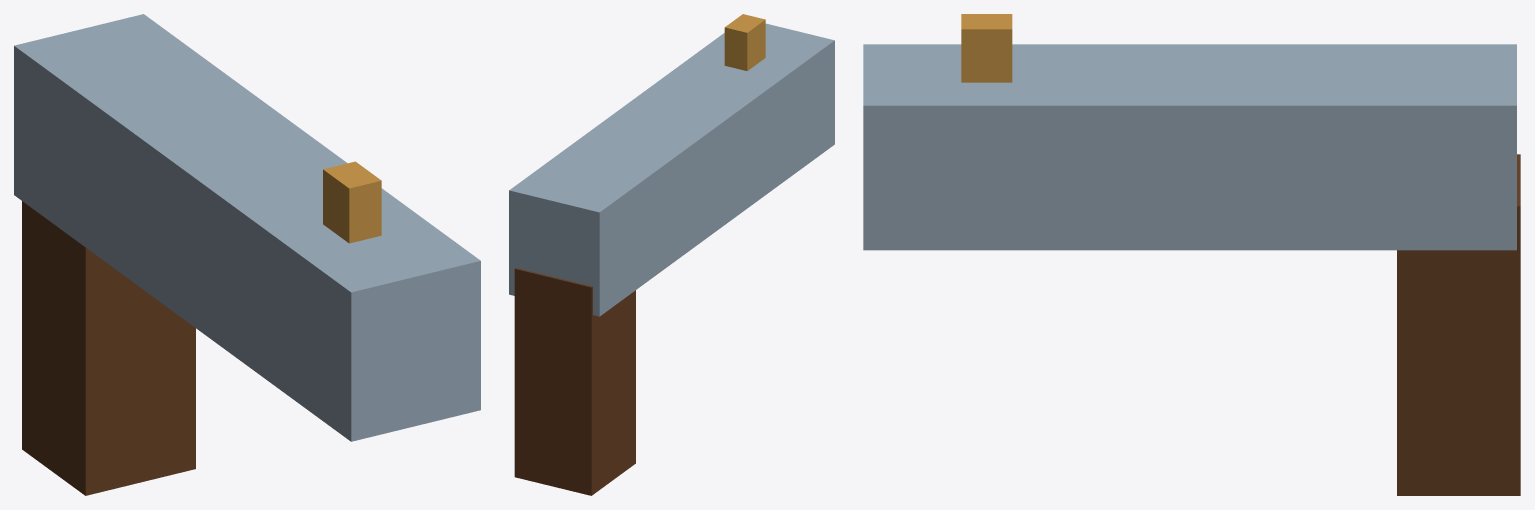
File: gun.glb
The picture shows the model from 3 angles, left to right: view 1: azimuth 30°, elevation 25°; view 2: azimuth 150°, elevation 25°; view 3: azimuth 270°, elevation 25°; orthographic projection. The views are drawn at different scales.
Parts seen in each view (by area): view 1: Barrel, Handle, Sight; view 2: Barrel, Handle, Sight; view 3: Barrel, Handle, Sight.
Part boxes in pixels (box(x1,y1,x2,y2)): Barrel: box(14, 14, 480, 441); Handle: box(22, 201, 195, 495); Sight: box(323, 161, 381, 243); Barrel: box(509, 23, 834, 316); Handle: box(514, 268, 635, 495); Sight: box(724, 14, 765, 70); Barrel: box(863, 44, 1516, 250); Handle: box(1397, 154, 1520, 495); Sight: box(961, 14, 1012, 82).
Bounding box in the file's own units: 0.1 × 0.3405 × 0.4525.
